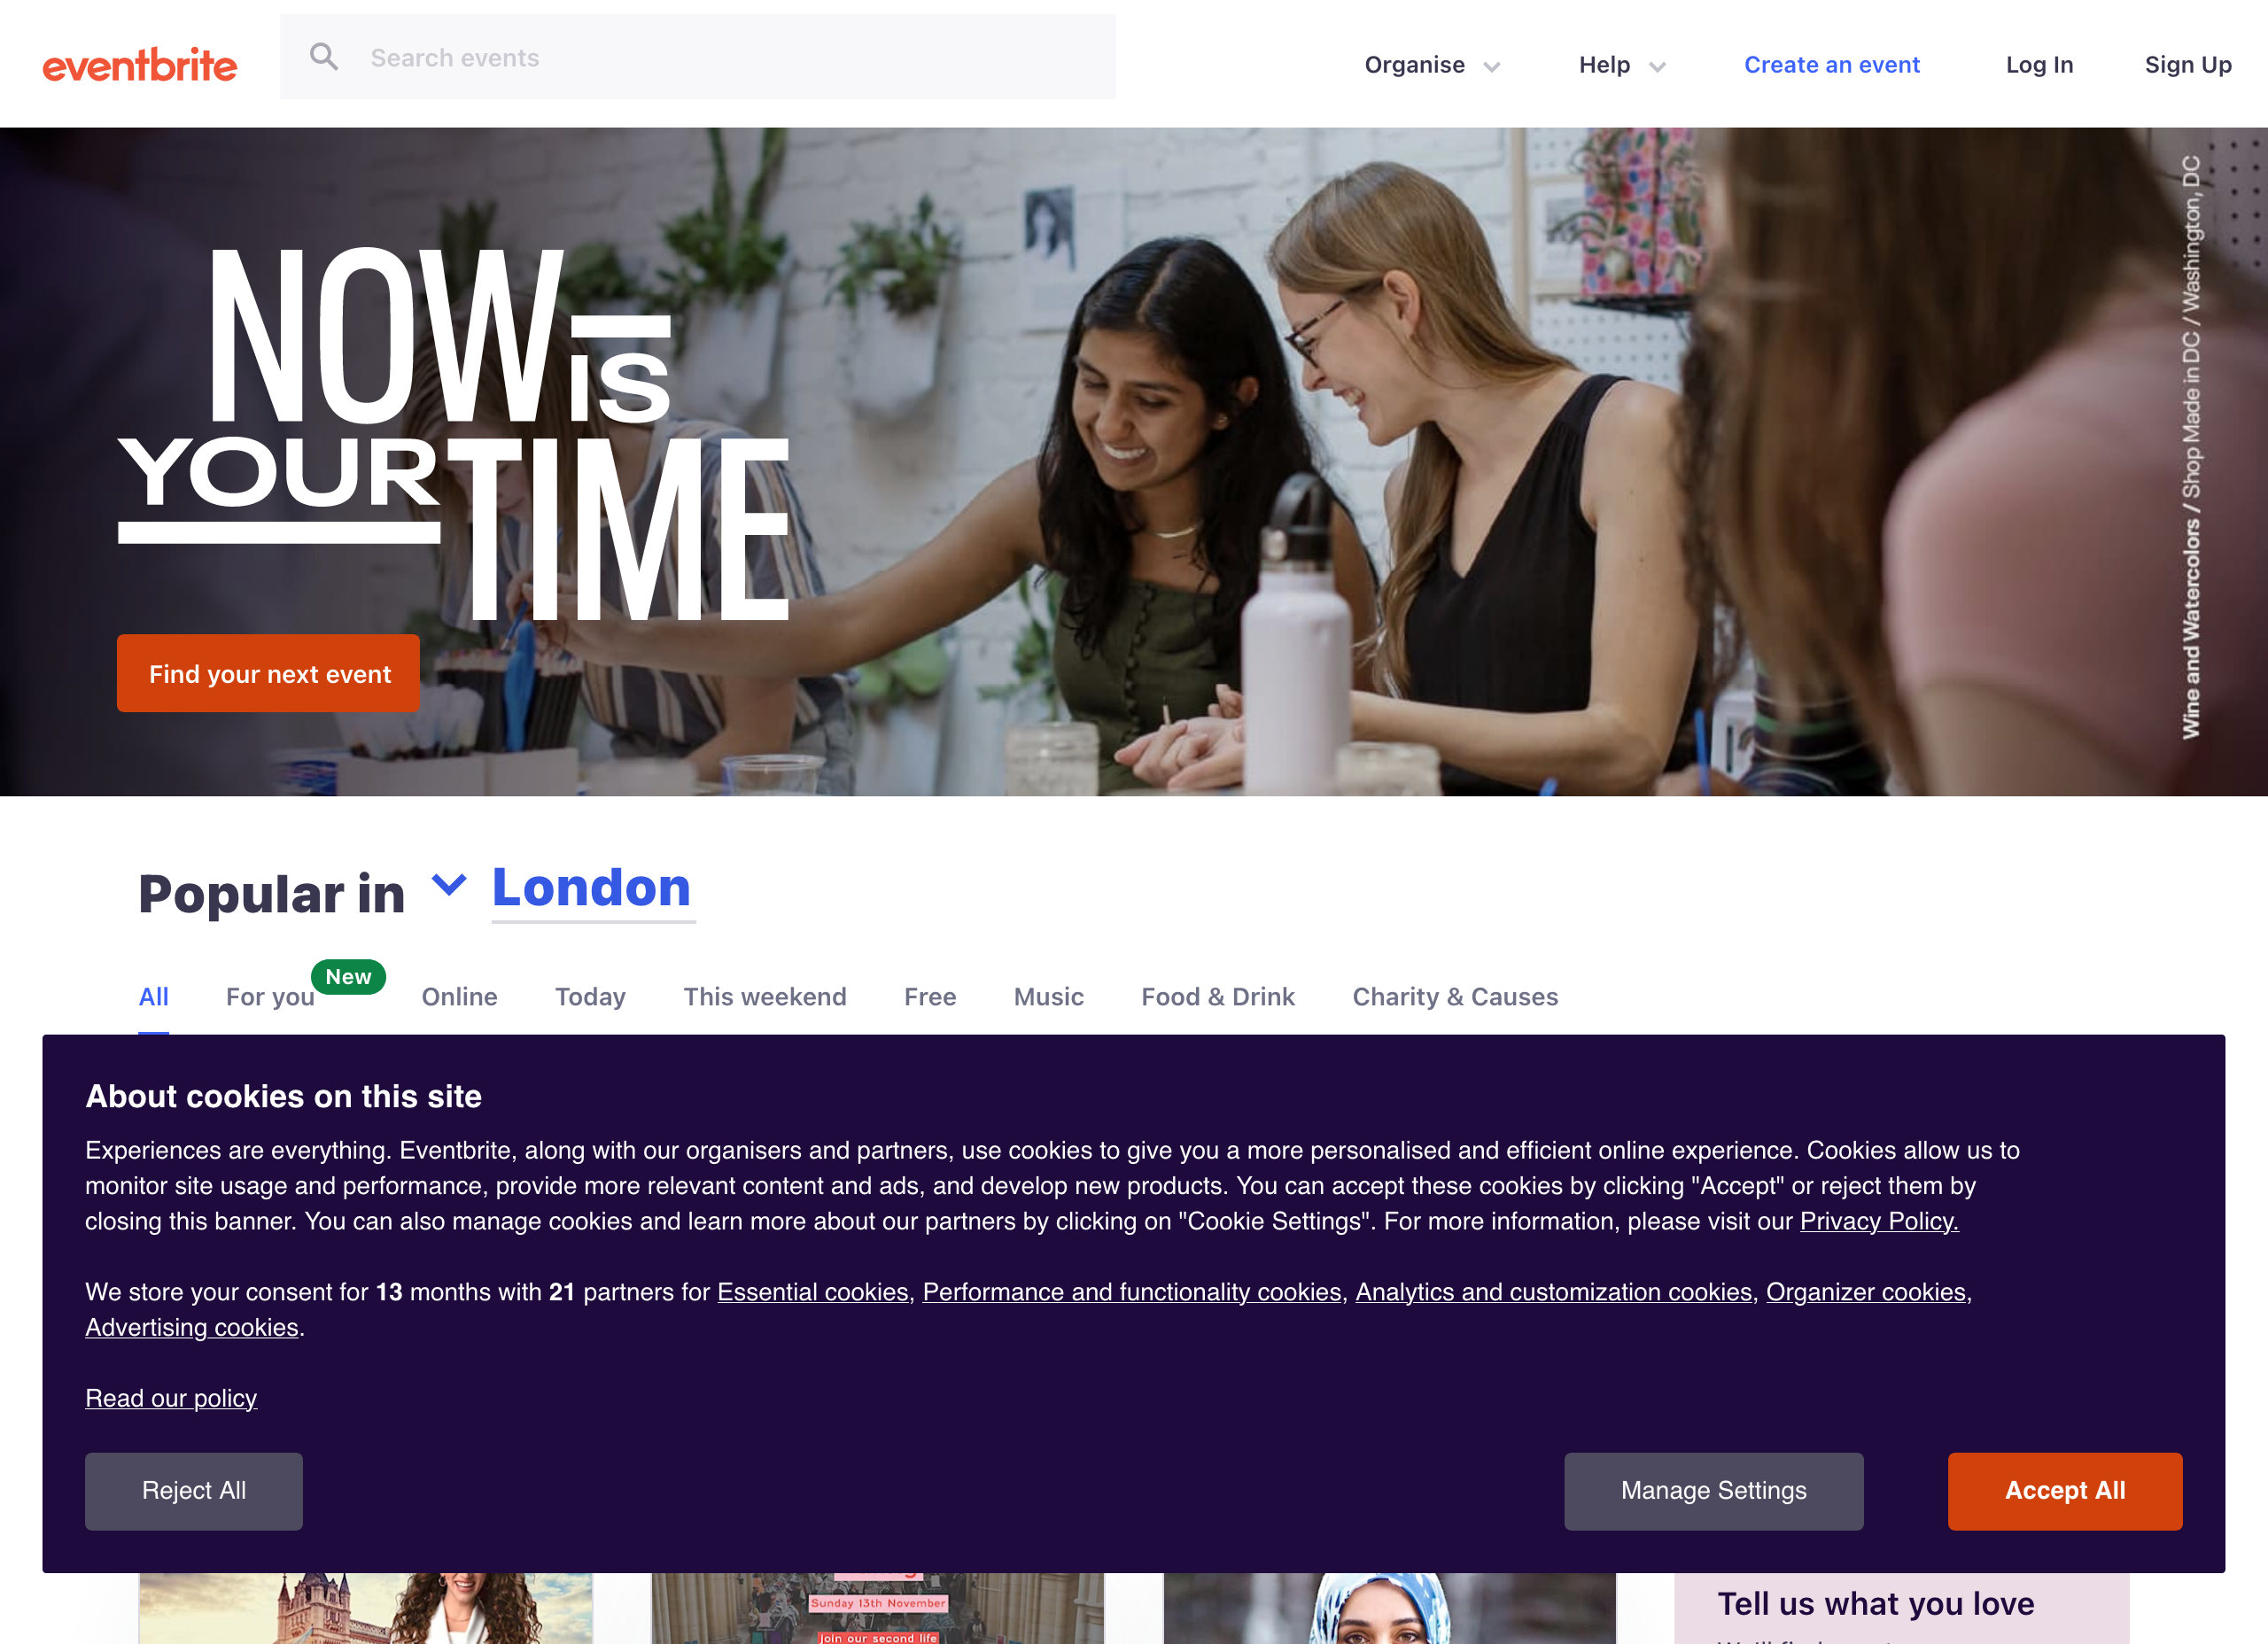Login: (1995, 40, 2085, 86)
